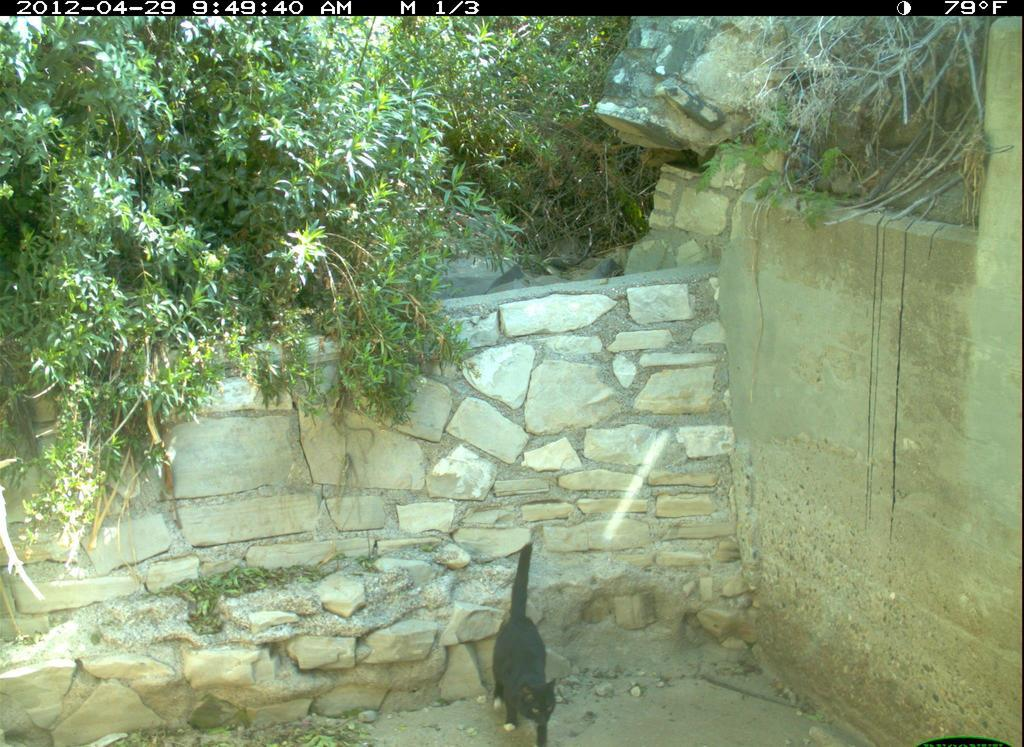cat: (468, 536, 575, 747)
